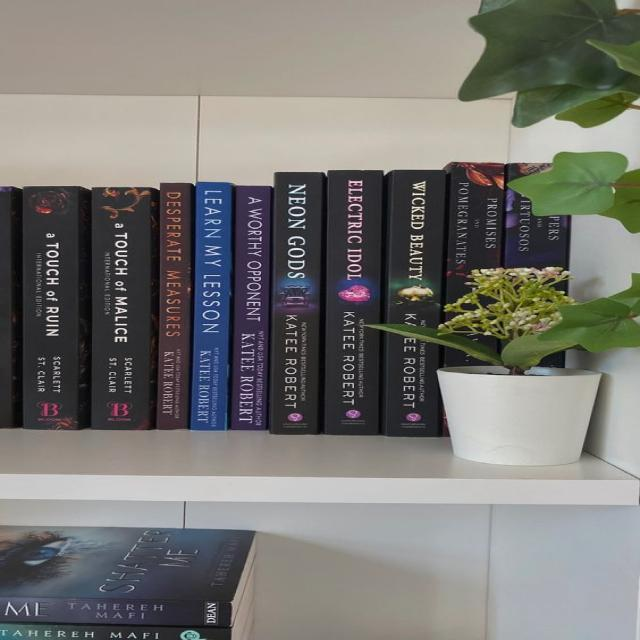book: (22, 186, 89, 430), (91, 187, 158, 430), (321, 171, 381, 435), (268, 173, 322, 434), (190, 183, 234, 430), (378, 170, 445, 327), (229, 186, 269, 430), (157, 183, 193, 429), (445, 162, 504, 303), (382, 336, 441, 436), (503, 189, 569, 269), (505, 164, 548, 180)
flowers: (368, 268, 639, 465)
